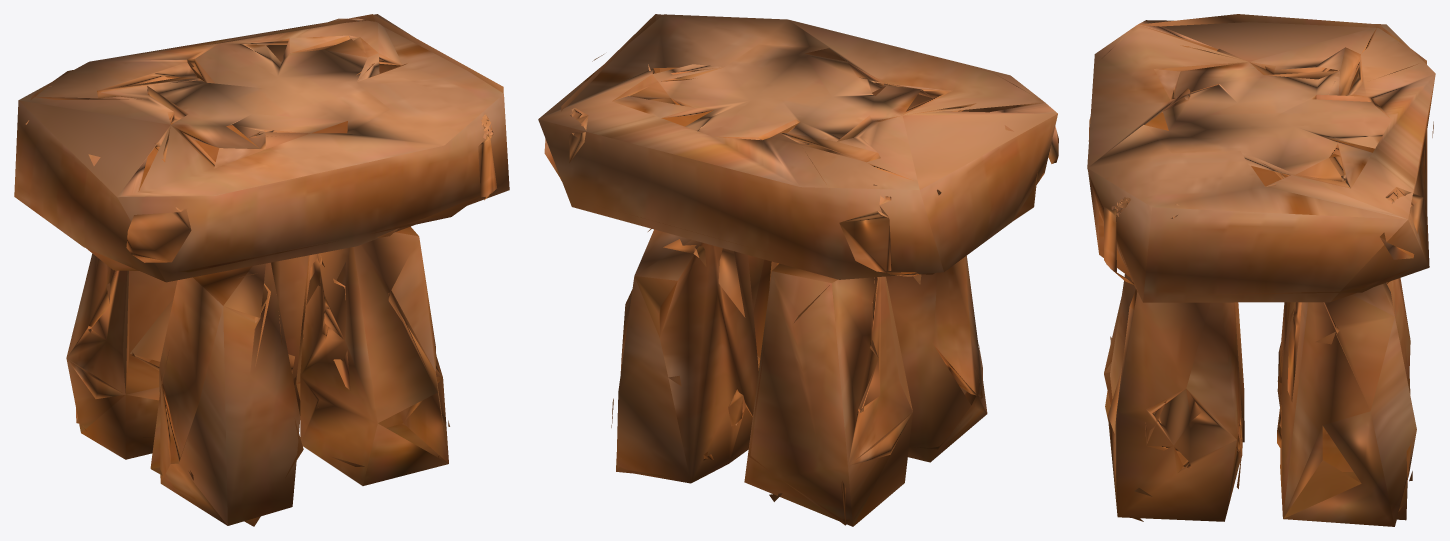
File: lg-dolmen.glb
The picture shows the model from 3 angles, left to right: view 1: azimuth 30°, elevation 25°; view 2: azimuth 150°, elevation 25°; view 3: azimuth 270°, elevation 25°; orthographic projection.
Visible parts, largest first — view 1: geometry_0; view 2: geometry_0; view 3: geometry_0.
Boxes of the visible parts, left/top/right/bottom form: geometry_0: left=14, top=14, right=509, bottom=526; geometry_0: left=538, top=14, right=1058, bottom=526; geometry_0: left=1087, top=14, right=1435, bottom=526.
Size of the model in its own units: 1 by 0.874 by 0.7492.
1 material, 1 textured.
